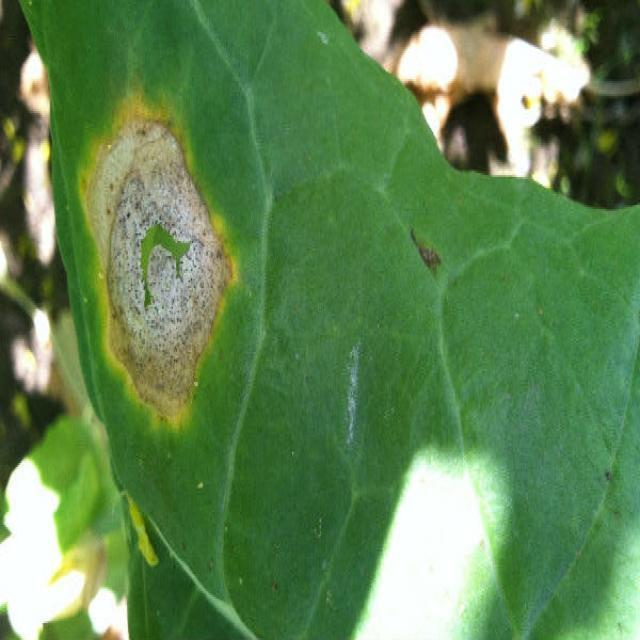Bacterial: (77, 62, 311, 446)
